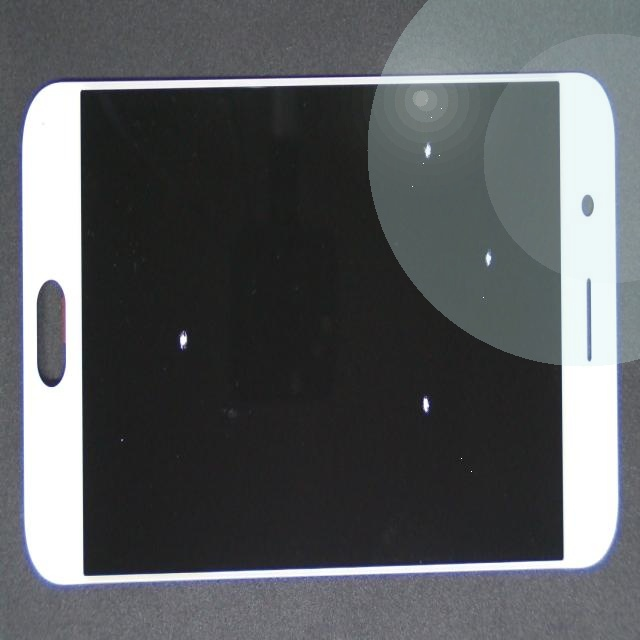stain: (203, 237, 610, 640), (248, 152, 640, 456), (207, 98, 620, 293), (90, 119, 248, 517)
